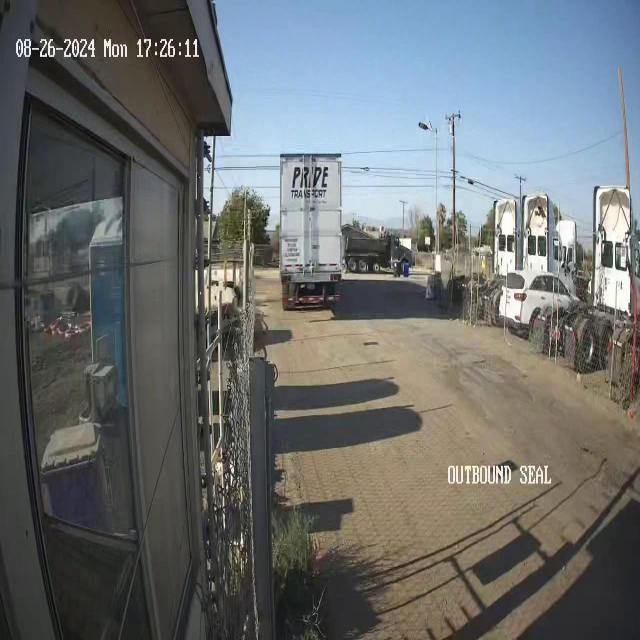TRUCK_IN: (278, 151, 344, 310)
